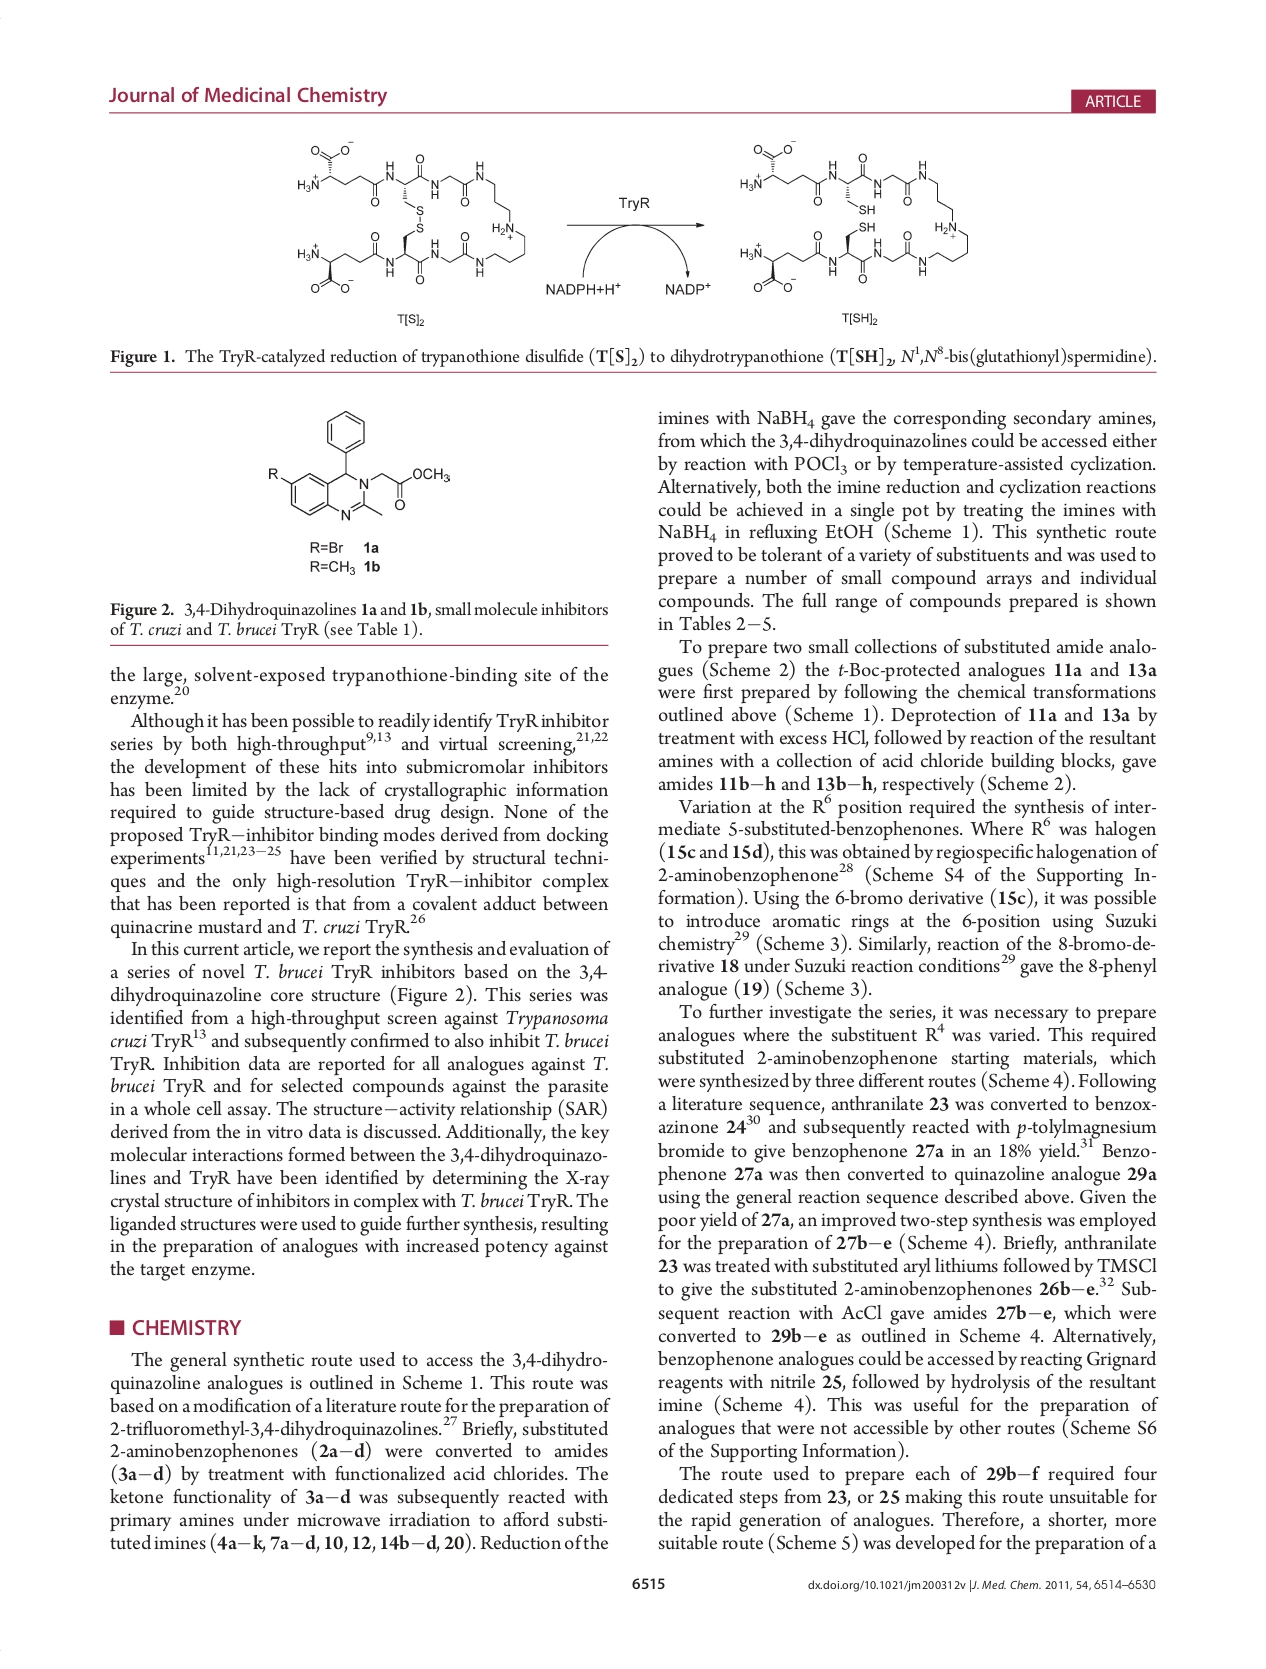exist_molecular: (294, 138, 531, 297), (734, 138, 973, 294), (266, 406, 453, 523)
